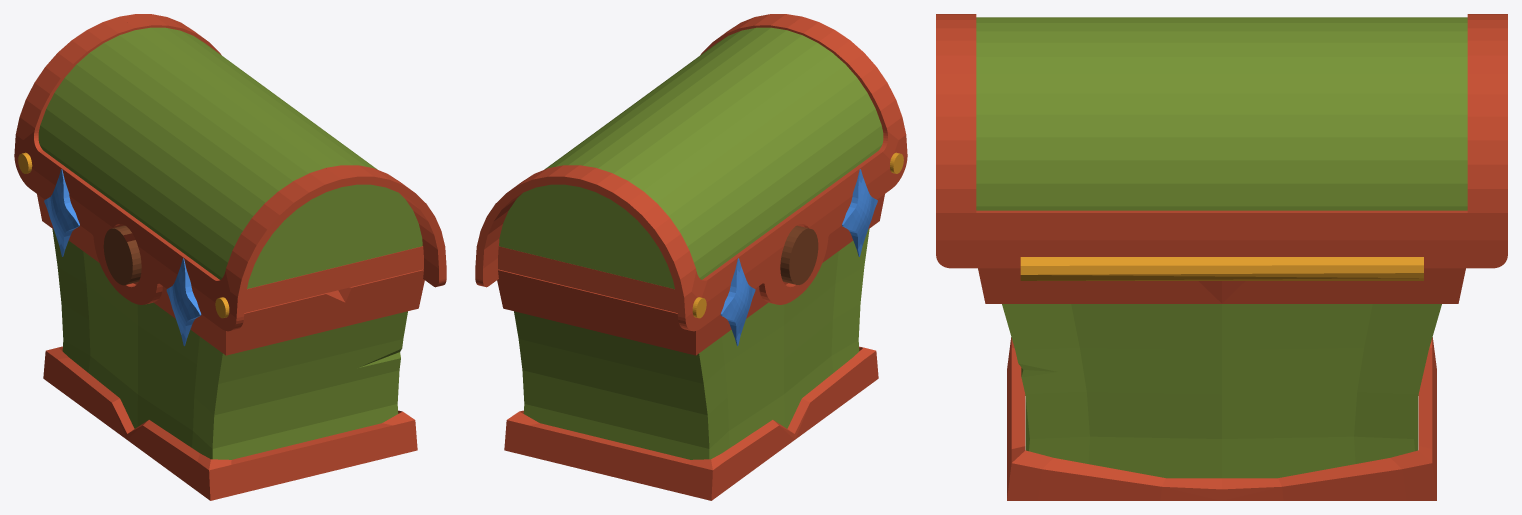
The model's file is TreasureBox.fbx.
3 views of the same model, side by side, from view 1: azimuth 30°, elevation 25°; view 2: azimuth 150°, elevation 25°; view 3: azimuth 270°, elevation 25° (orthographic). The views are drawn at different scales.
Visible parts, largest first — view 1: Cube.010, Cube.007, Cube.011, Cube.009, Cube.014, Cube.008, Cube.006, Cube.012, Cylinder.006, Cylinder.005; view 2: Cube.010, Cube.007, Cube.011, Cube.009, Cube.013, Cube.008, Cube.006, Cube.012, Cylinder.006, Cylinder.005; view 3: Cube.010, Cube.007, Cube.011, Cube.009, Cube.008, Cylinder.004.
Boxes of the visible parts, x1,y1,x2,y2 form: Cube.010: [38, 27, 422, 279]; Cube.007: [52, 229, 407, 459]; Cube.011: [14, 14, 446, 331]; Cube.009: [43, 346, 417, 500]; Cube.014: [247, 184, 421, 288]; Cube.008: [37, 194, 424, 355]; Cube.006: [117, 224, 423, 312]; Cube.012: [44, 169, 201, 346]; Cylinder.006: [103, 225, 141, 285]; Cylinder.005: [18, 152, 229, 318]; Cube.010: [499, 27, 883, 279]; Cube.007: [514, 229, 869, 459]; Cube.011: [475, 14, 907, 331]; Cube.009: [504, 346, 878, 500]; Cube.013: [500, 184, 674, 289]; Cube.008: [497, 194, 884, 355]; Cube.006: [498, 224, 804, 312]; Cube.012: [720, 169, 877, 346]; Cylinder.006: [780, 225, 818, 284]; Cylinder.005: [692, 152, 903, 318]; Cube.010: [976, 17, 1467, 210]; Cube.007: [1002, 304, 1441, 478]; Cube.011: [936, 14, 1507, 268]; Cube.009: [1007, 337, 1436, 500]; Cube.008: [978, 268, 1465, 303]; Cylinder.004: [1020, 257, 1423, 280].
Size of the model in its own units: 316 by 423 by 537.
